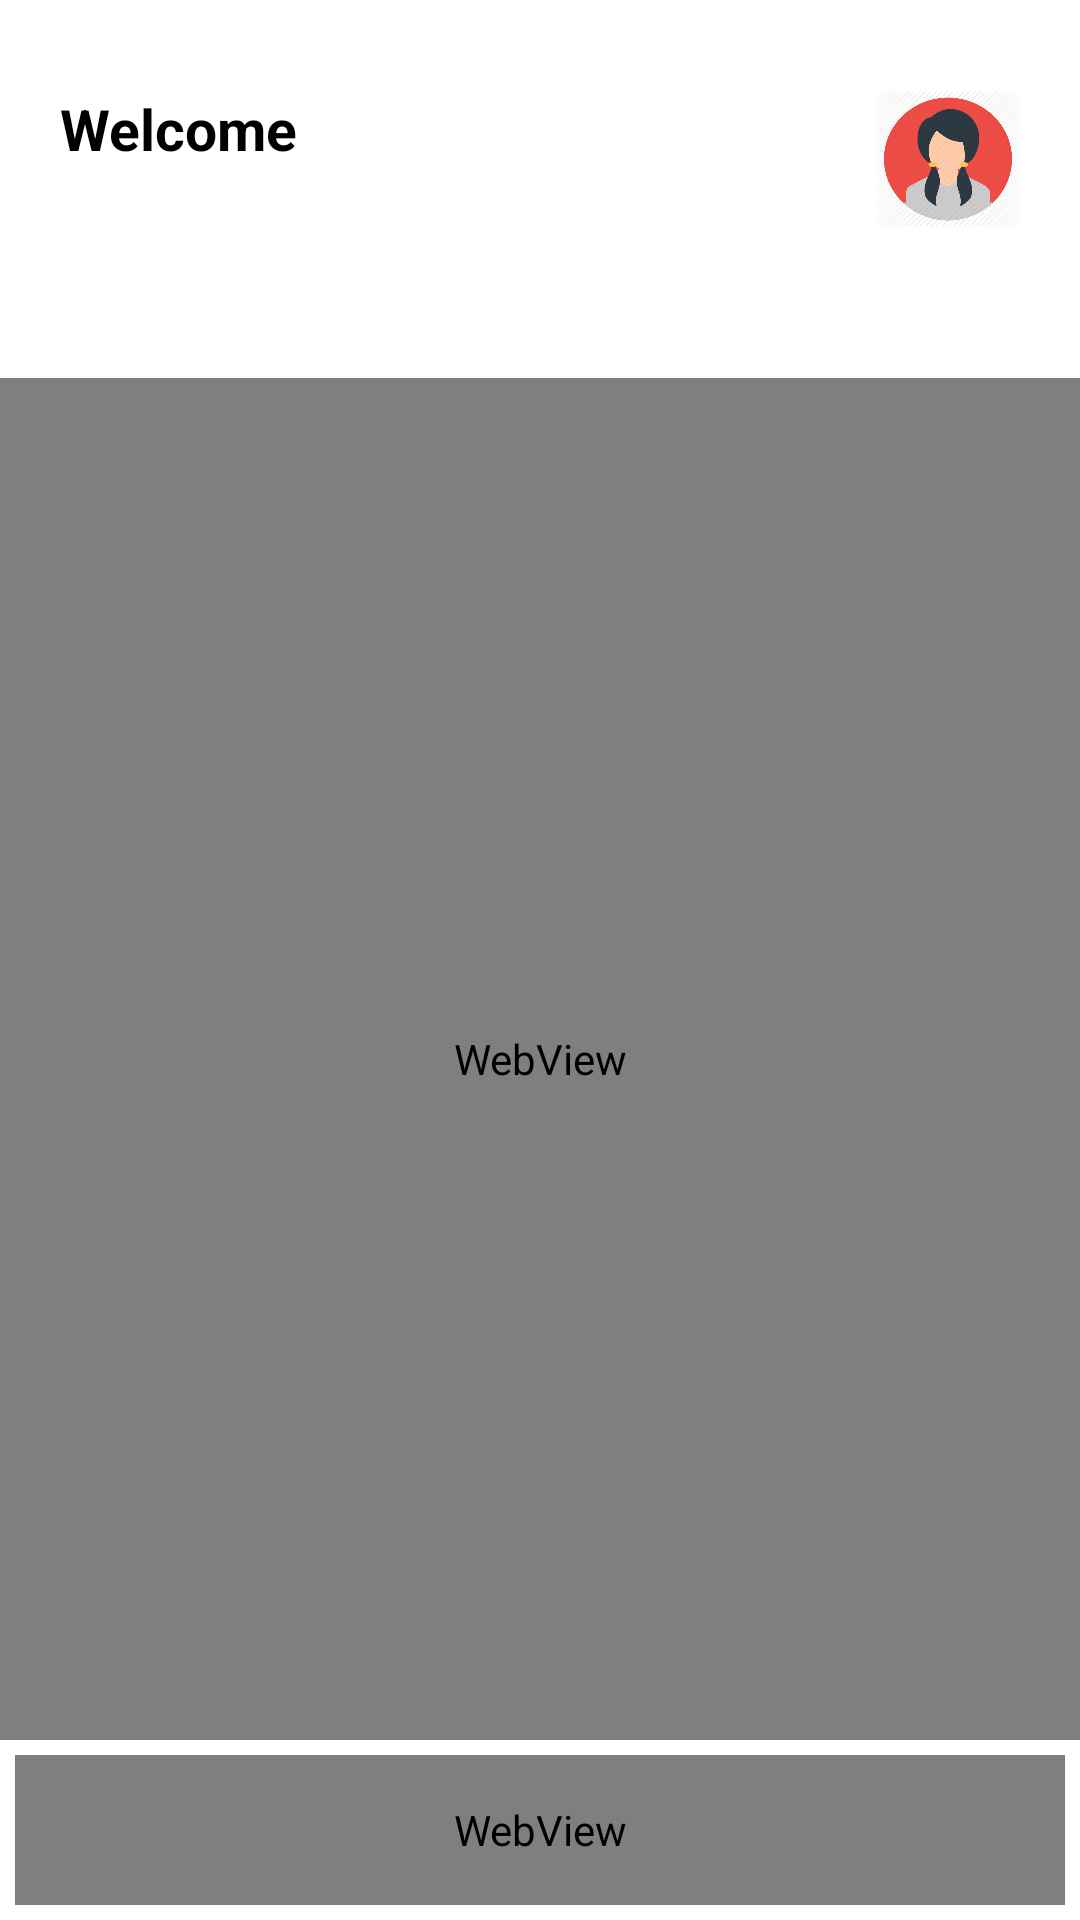

Where to tap for icons on this 1080x1920 app screen, as [x,y]:
testavt: [948,159]
